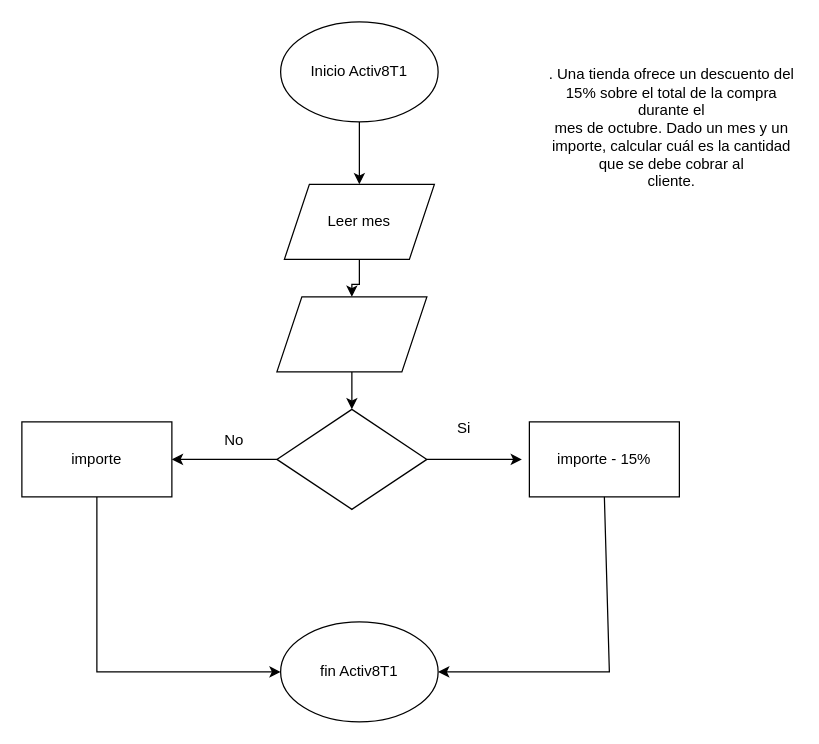
Image size: 819x744. Some labels were removed from this diagram. The shapes that lost their labels are listed below. From the top down, each one's box as (x1, y1, x2, y2) in pixels, then its label:
(276, 296, 427, 372): Leer importe
(276, 408, 427, 509): es Octubre?
